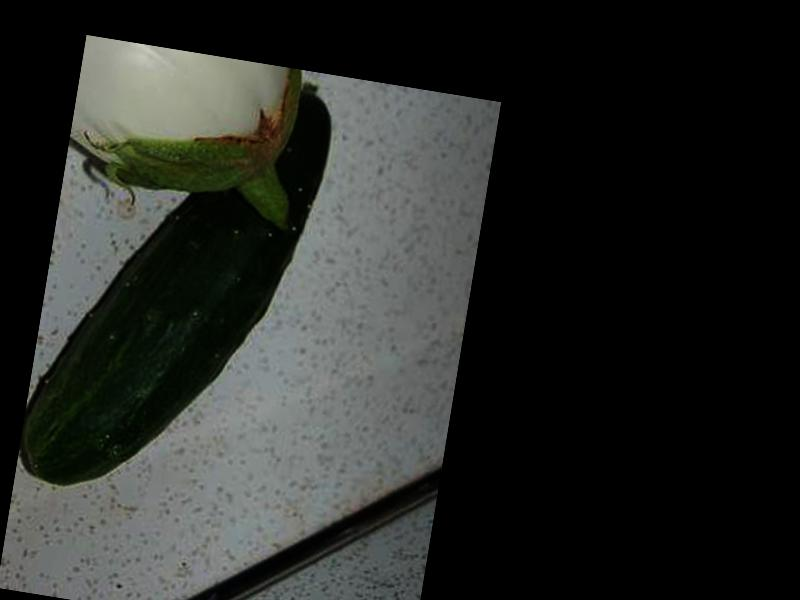Cucumber: (14, 46, 337, 517)
